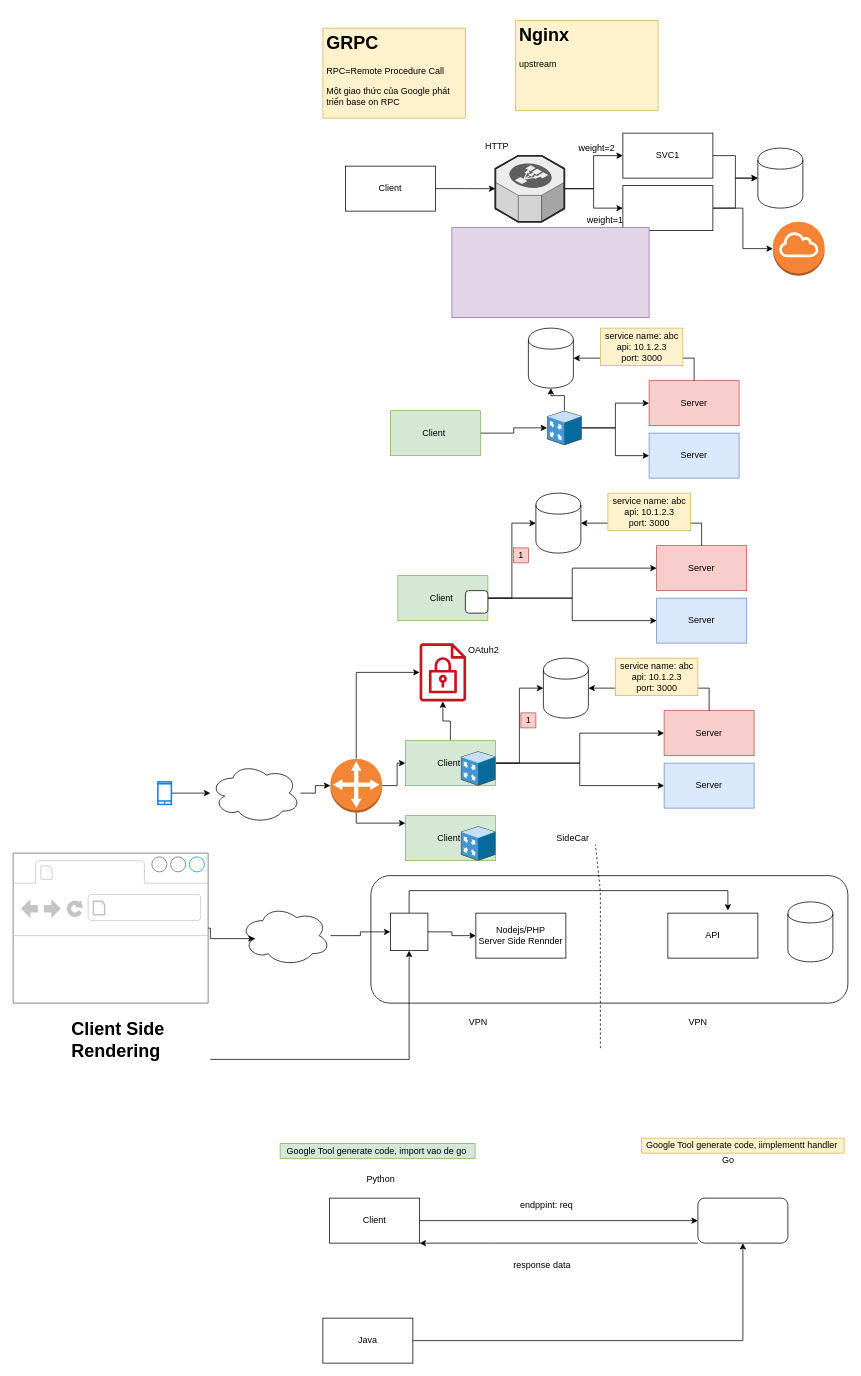
Image size: 861x1376. Some labels were removed from this diagram. Here are the shapes that lost their labels. From the top down, the centre of each, then its label:
pixel 667 208: SVC2
pixel 550 272: Service Discovery Zookeeper ETCD Consul
pixel 476 601: Proxy
pixel 99 871: Page 1
pixel 204 907: https://www.draw.io
pixel 409 931: Nginx HAProxy
